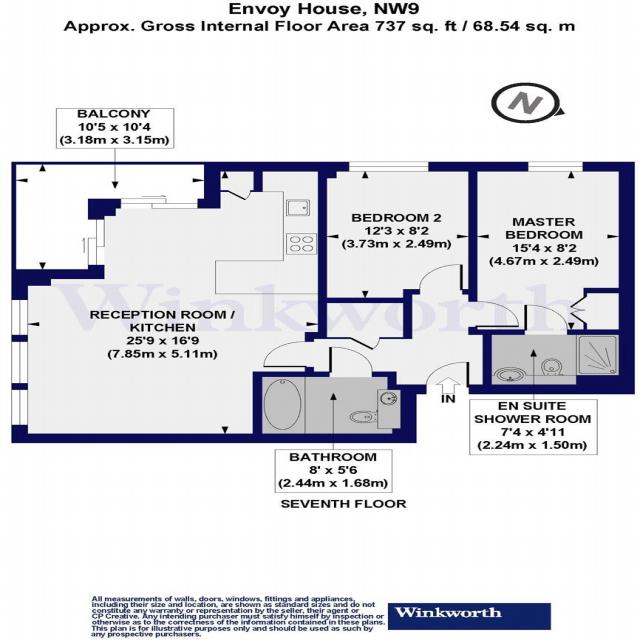DOOR: (422, 357, 474, 394), (325, 344, 378, 378), (414, 261, 467, 295), (523, 301, 573, 334), (468, 299, 523, 329), (260, 340, 315, 368)
ROOM: (11, 161, 327, 445), (468, 162, 635, 336), (317, 161, 478, 304)
WINDOW: (343, 160, 433, 175), (8, 340, 33, 385), (8, 298, 32, 337), (8, 388, 32, 427), (524, 159, 586, 174)
